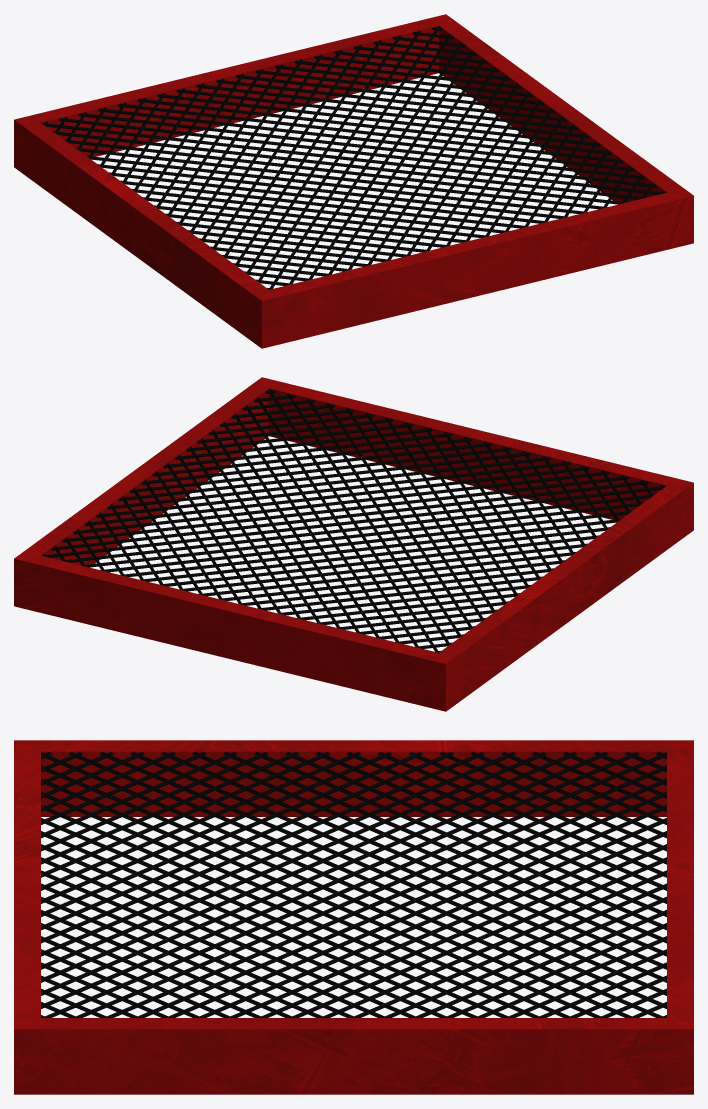
The model's file is ObstacleJalanBesi.fbx.
3 renders of one model, top to bottom at view 1: azimuth 30°, elevation 25°; view 2: azimuth 150°, elevation 25°; view 3: azimuth 270°, elevation 25°, orthographic. The views are drawn at different scales.
Parts seen in each view (by area): view 1: Alas, Jaring; view 2: Alas, Jaring; view 3: Jaring, Alas.
Boxes of the visible parts, left/top/right/bottom form: Alas: left=14, top=14, right=693, bottom=348; Jaring: left=41, top=26, right=666, bottom=289; Alas: left=14, top=377, right=693, bottom=711; Jaring: left=41, top=389, right=666, bottom=652; Jaring: left=41, top=752, right=666, bottom=1017; Alas: left=14, top=740, right=693, bottom=1094.
Size of the model in its own units: 2822 by 2805 by 298.
